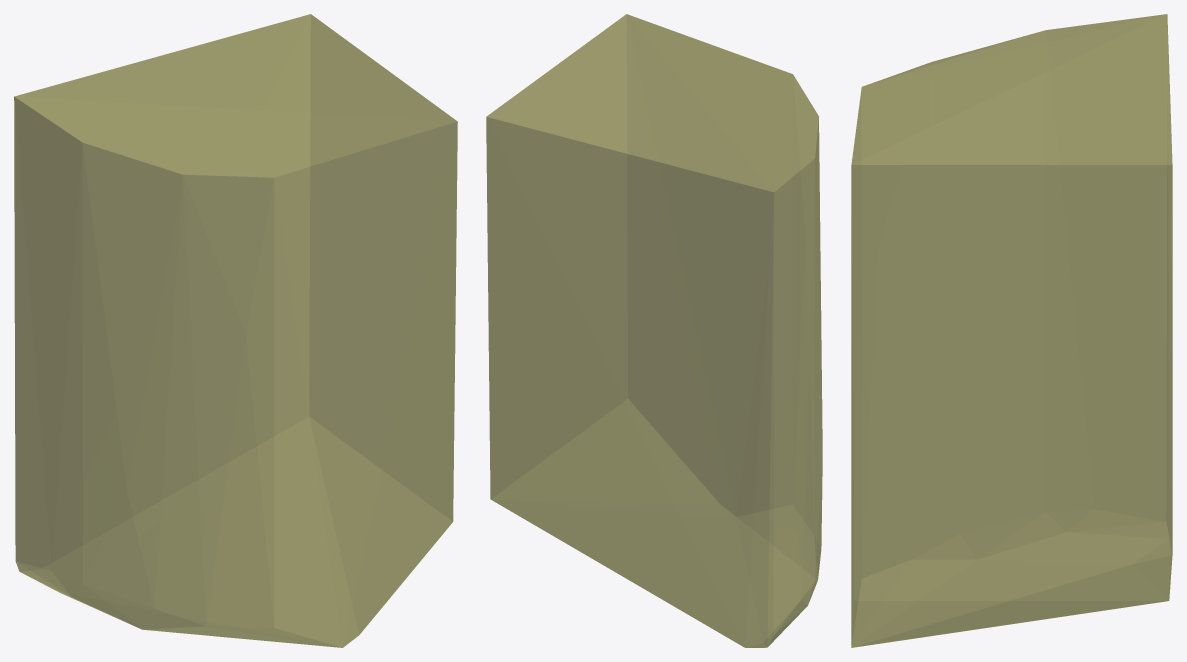
3 views of the same model, side by side, from view 1: azimuth 30°, elevation 25°; view 2: azimuth 150°, elevation 25°; view 3: azimuth 270°, elevation 25° (orthographic). The views are drawn at different scales.
Parts seen in each view (by area): view 1: Shape_IndexedFaceSet.006_Shape_IndexedFaceSet.1757; view 2: Shape_IndexedFaceSet.006_Shape_IndexedFaceSet.1757; view 3: Shape_IndexedFaceSet.006_Shape_IndexedFaceSet.1757.
Part boxes in pixels (box(x1,y1,x2,y2)): Shape_IndexedFaceSet.006_Shape_IndexedFaceSet.1757: box(14, 14, 457, 647); Shape_IndexedFaceSet.006_Shape_IndexedFaceSet.1757: box(486, 14, 822, 647); Shape_IndexedFaceSet.006_Shape_IndexedFaceSet.1757: box(851, 14, 1172, 647).
Size of the model in its own units: 0.1313 by 0.2091 by 0.1118.
